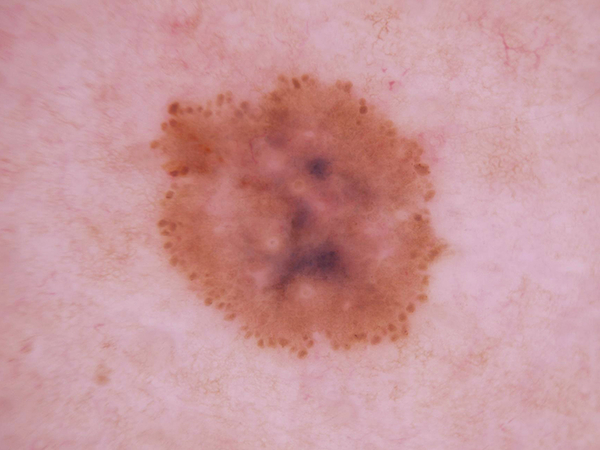Detected Lesion: (148, 71, 455, 364)
